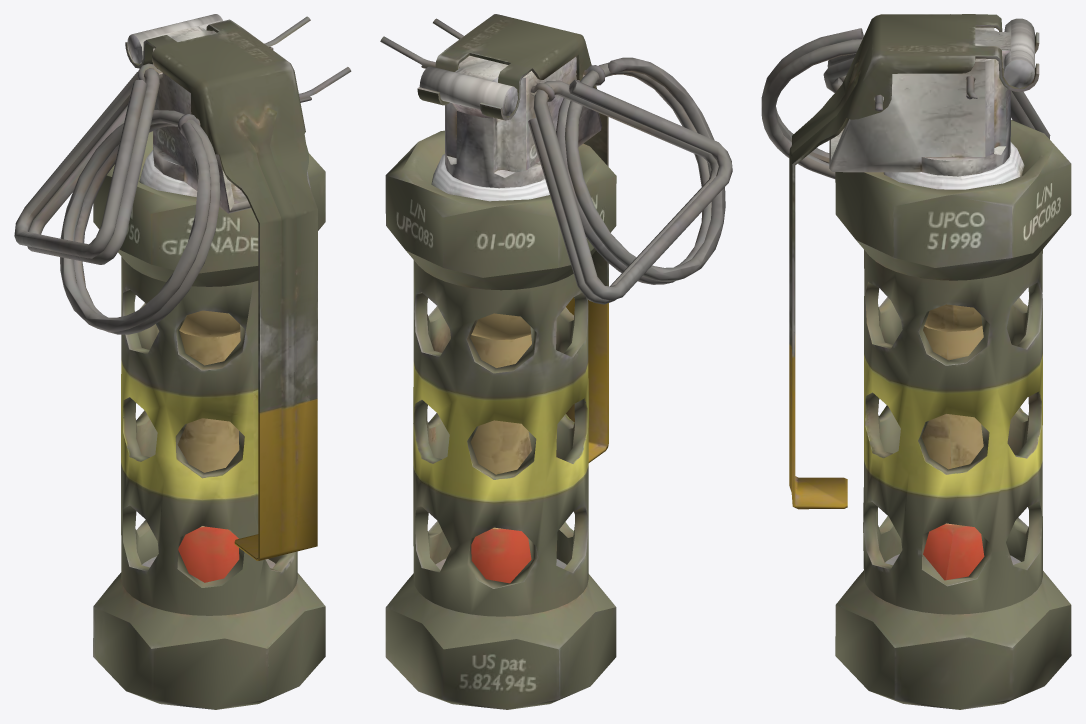
The model's file is grenade_flash.glb.
3 renders of one model, left to right at view 1: azimuth 30°, elevation 25°; view 2: azimuth 150°, elevation 25°; view 3: azimuth 270°, elevation 25°, orthographic. The views are drawn at different scales.
Parts seen in each view (by area): view 1: grenade_flash; view 2: grenade_flash; view 3: grenade_flash.
Part boxes in pixels (<box>): grenade_flash: <box>14,14,351,709</box>; grenade_flash: <box>380,14,732,709</box>; grenade_flash: <box>761,14,1071,709</box>.
Size of the model in its own units: 0.0645 by 0.1338 by 0.0595.
Materials: 1 (1 with a texture image).
